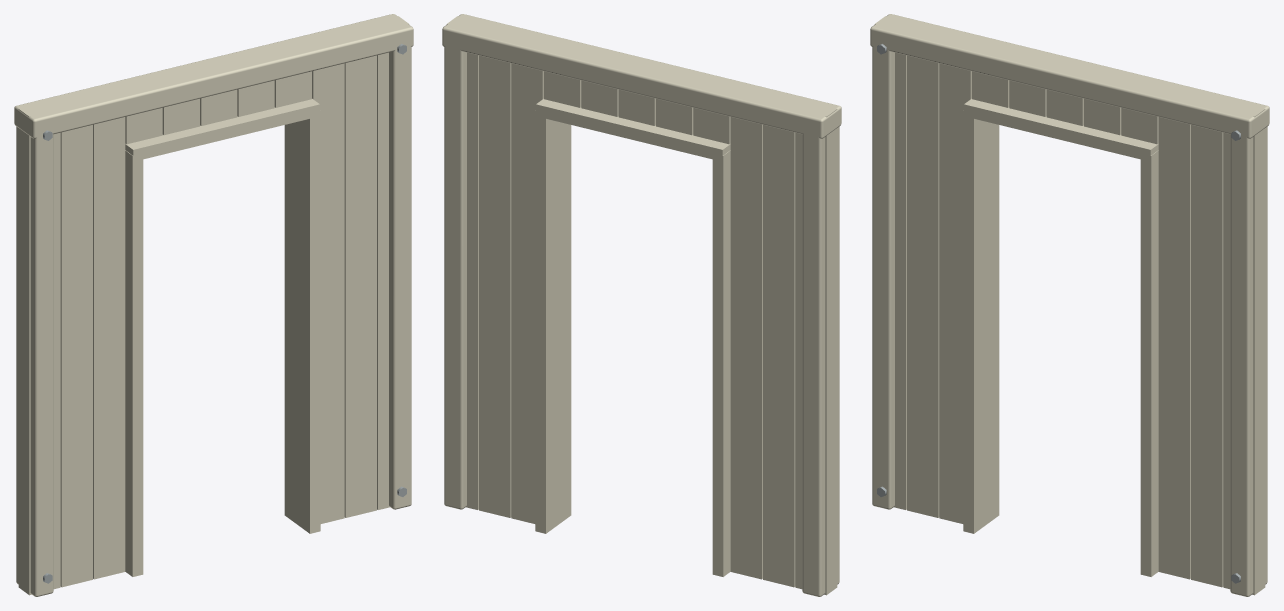
Rendered from suburban-outbreak-interiors-room-door-partition-b24fe25f__19874.glb.
3 views of the same model, side by side, from view 1: azimuth 30°, elevation 25°; view 2: azimuth 150°, elevation 25°; view 3: azimuth 330°, elevation 25° (orthographic).
Visible parts, largest first — view 1: room-door-partition; view 2: room-door-partition; view 3: room-door-partition.
Boxes of the visible parts, bbox=[...] form: room-door-partition: bbox=[14, 14, 413, 596]; room-door-partition: bbox=[442, 14, 841, 596]; room-door-partition: bbox=[870, 14, 1269, 596].
Bounding box in the file's own units: 2 × 2.4 × 0.23.
